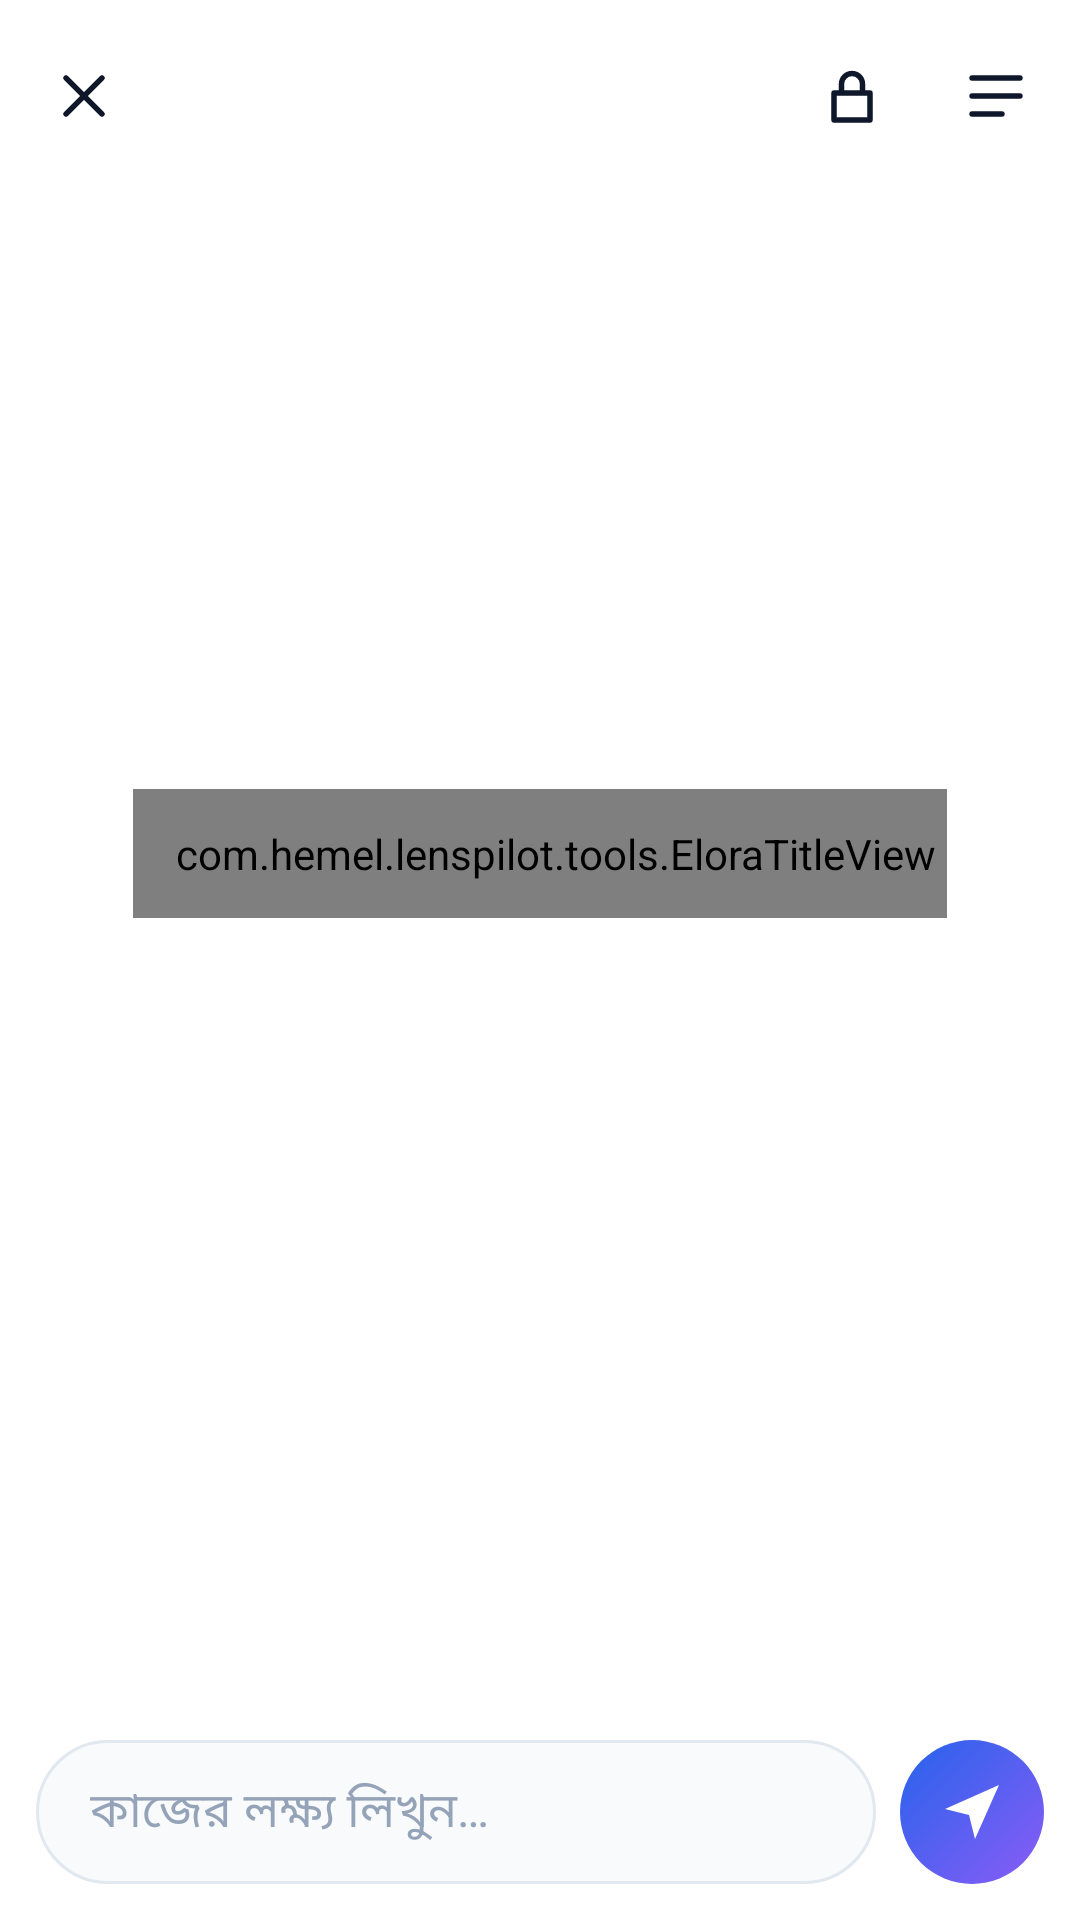

Icons on this 1080px x 1920px Android screen, each with its box as (x1, y1, x2, y2):
নিরাপত্তা: (831, 70, 873, 123)
পাঠান: (900, 1740, 1044, 1884)
বন্ধ করুন: (63, 75, 105, 117)
